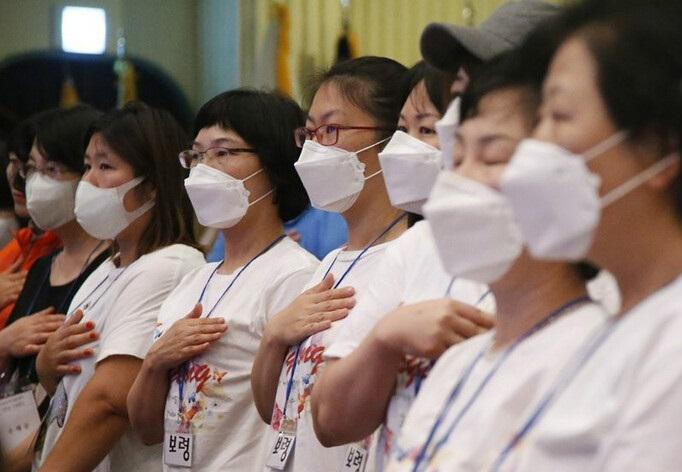OK: (519, 105, 659, 259), (431, 138, 566, 283), (296, 106, 400, 210), (385, 109, 484, 208), (185, 135, 277, 227), (26, 154, 88, 233)
WRONG: (72, 149, 159, 236)
